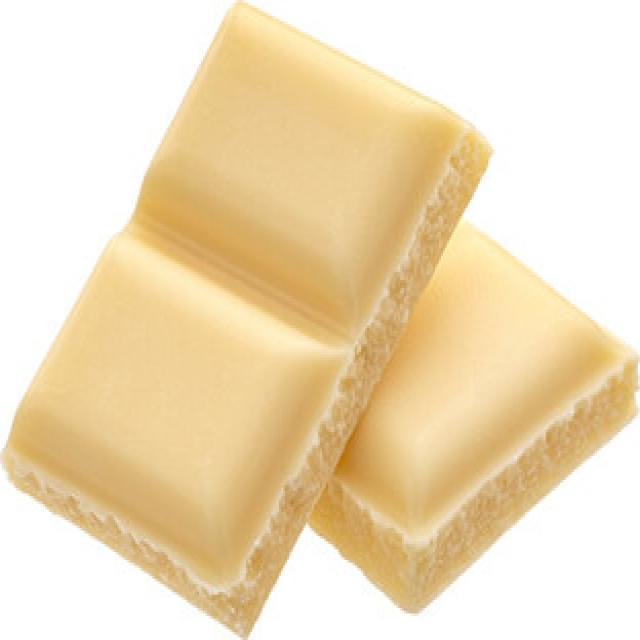Chocolate: (0, 0, 490, 640), (301, 208, 640, 618)
